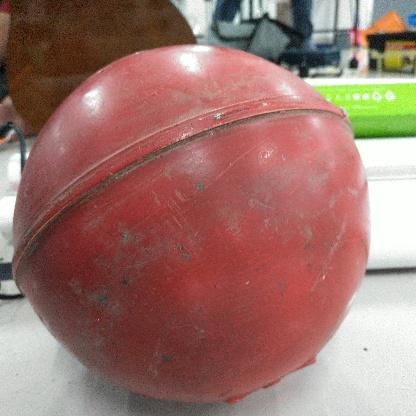red_buoy: (11, 36, 378, 412)
